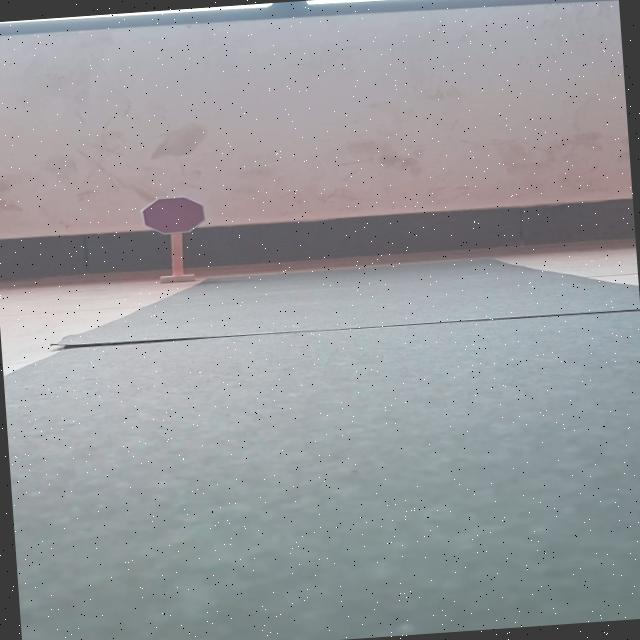Stop: (140, 194, 207, 236)
